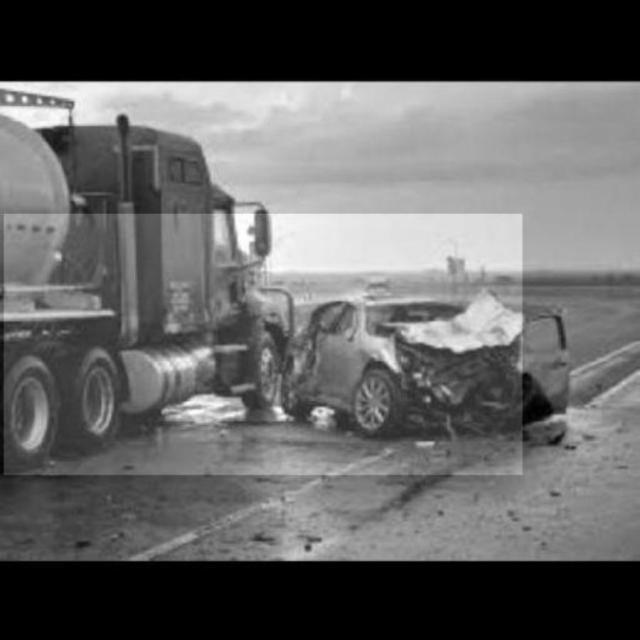accident: (4, 214, 522, 475)
